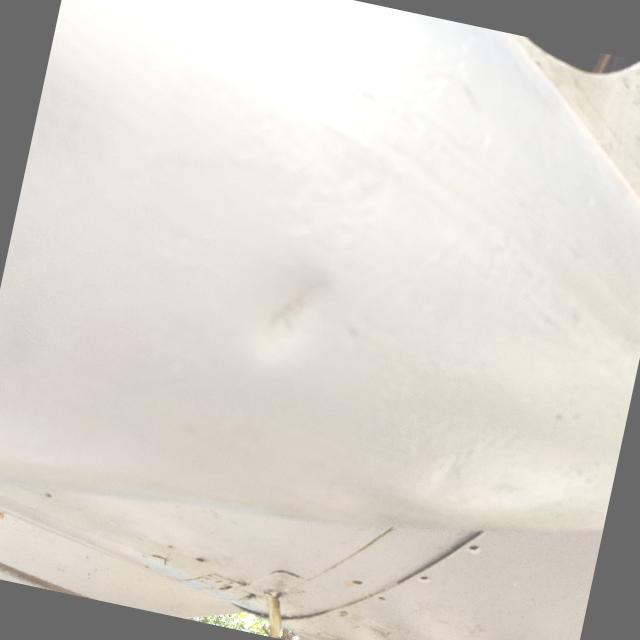dent: (216, 236, 372, 383)
